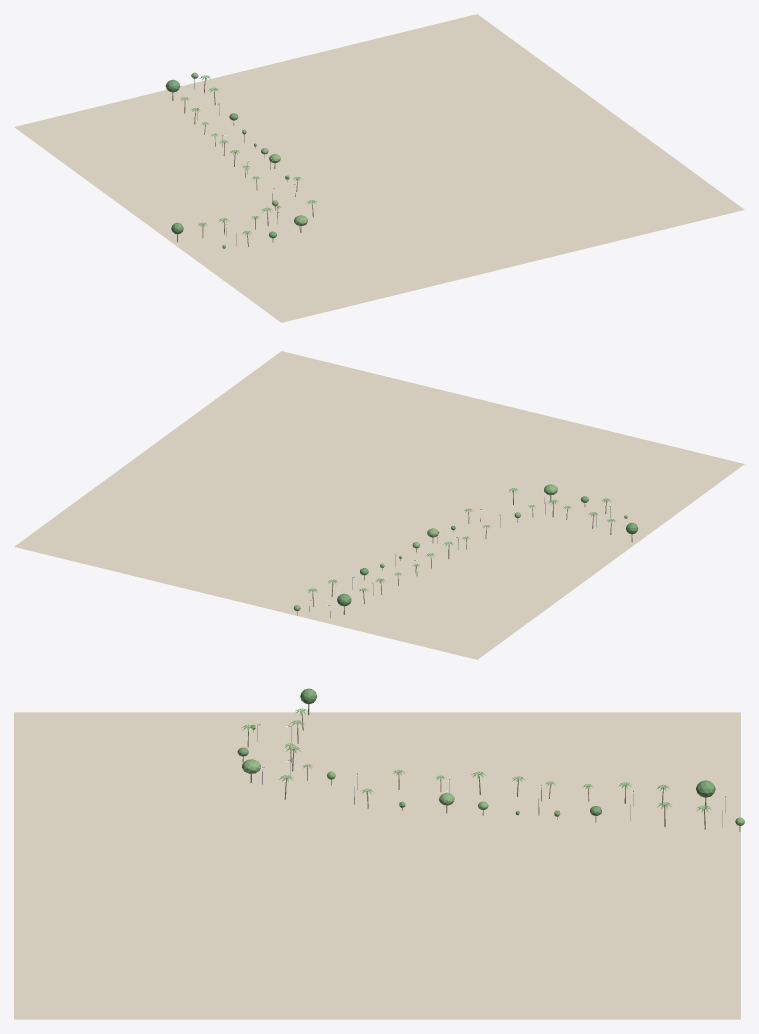
File: nature_5_-4.glb
The picture shows the model from 3 angles, top to bottom: view 1: azimuth 30°, elevation 25°; view 2: azimuth 150°, elevation 25°; view 3: azimuth 270°, elevation 25°; orthographic projection. The views are drawn at different scales.
Parts seen in each view (by area): view 1: ground; view 2: ground; view 3: ground, palm_leaf, foliage_a, foliage_b, trunk.
Part boxes in pixels (box(x1,y1,x2,y2)): ground: box(14, 14, 744, 322); ground: box(14, 351, 744, 659); ground: box(14, 712, 740, 1019); palm_leaf: box(242, 708, 712, 812); foliage_a: box(237, 688, 715, 815); foliage_b: box(242, 724, 744, 825); trunk: box(242, 704, 740, 831).
Size of the model in its own units: 250 by 10.55 by 251.
